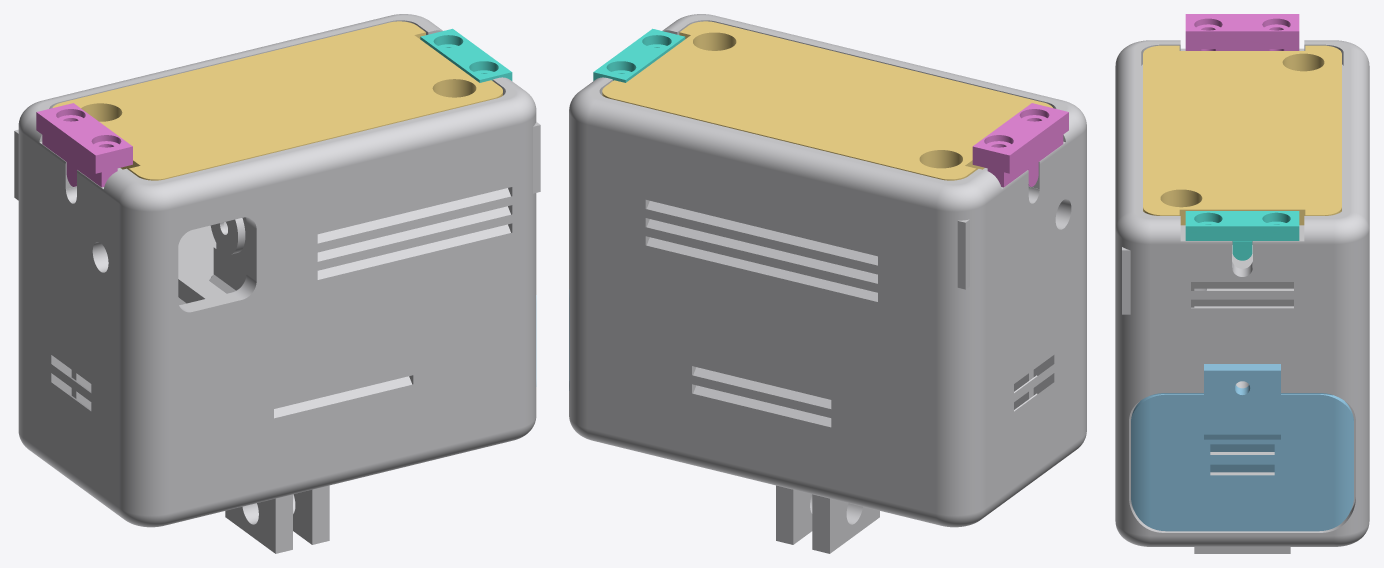
Rendered from sender850.glb.
3 views of the same model, side by side, from view 1: azimuth 30°, elevation 25°; view 2: azimuth 150°, elevation 25°; view 3: azimuth 270°, elevation 25° (orthographic). The views are drawn at different scales.
Visible parts, largest first — view 1: =>[0:1:1:3], =>[0:1:1:5], =>[0:1:1:10], =>[0:1:1:11]; view 2: =>[0:1:1:3], =>[0:1:1:5], =>[0:1:1:10], =>[0:1:1:11]; view 3: =>[0:1:1:3], =>[0:1:1:5], =>[0:1:1:4], =>[0:1:1:10], =>[0:1:1:11].
Boxes of the visible parts, box(x1,y1,x2,y2) form: =>[0:1:1:3]: box(14, 14, 540, 553); =>[0:1:1:5]: box(52, 21, 502, 180); =>[0:1:1:10]: box(36, 103, 132, 187); =>[0:1:1:11]: box(420, 28, 512, 82); =>[0:1:1:3]: box(569, 14, 1086, 553); =>[0:1:1:5]: box(602, 21, 1052, 180); =>[0:1:1:10]: box(972, 103, 1068, 187); =>[0:1:1:11]: box(593, 28, 685, 82); =>[0:1:1:3]: box(1115, 40, 1369, 553); =>[0:1:1:5]: box(1143, 45, 1341, 225); =>[0:1:1:4]: box(1131, 364, 1353, 531); =>[0:1:1:10]: box(1185, 14, 1299, 50); =>[0:1:1:11]: box(1185, 211, 1299, 260).
Bounding box in the file's own units: 0.0744 × 0.0735 × 0.0395.
